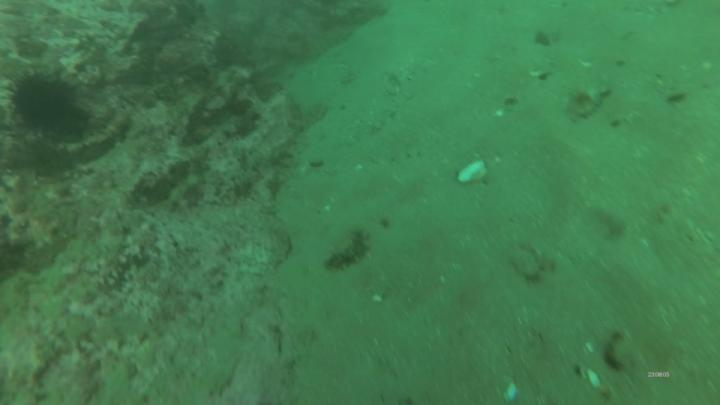echinus: (13, 71, 87, 139)
holothurian: (324, 227, 370, 273)
